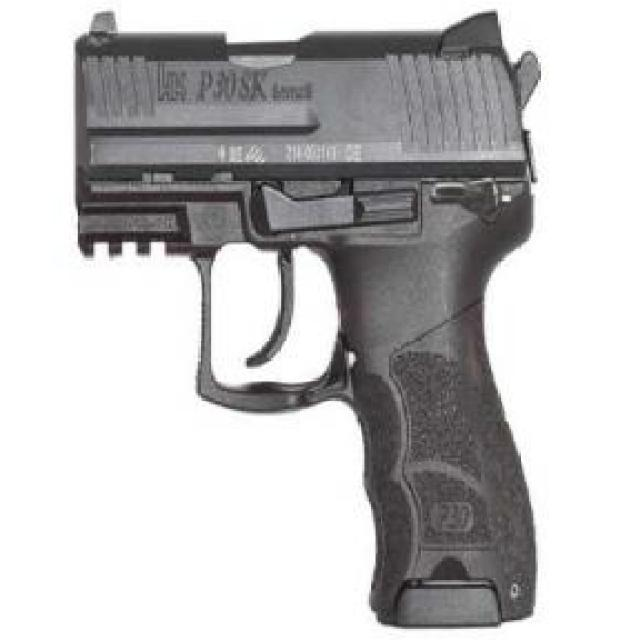pistol: (67, 4, 546, 628)
